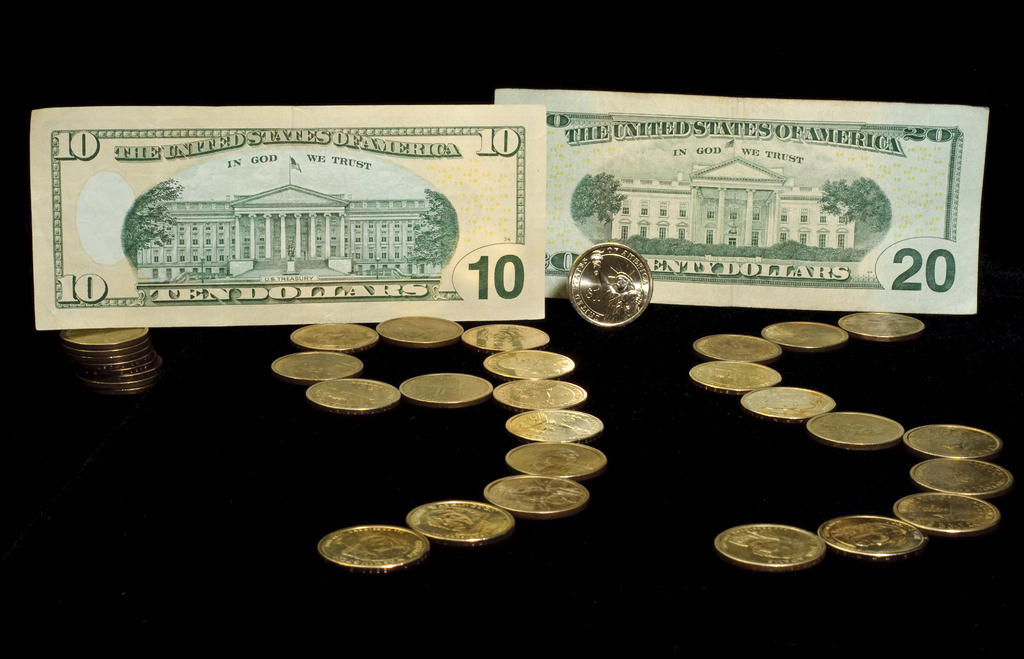Coin: (266, 313, 608, 576), (686, 307, 1016, 574), (567, 241, 655, 329), (64, 324, 154, 394)
